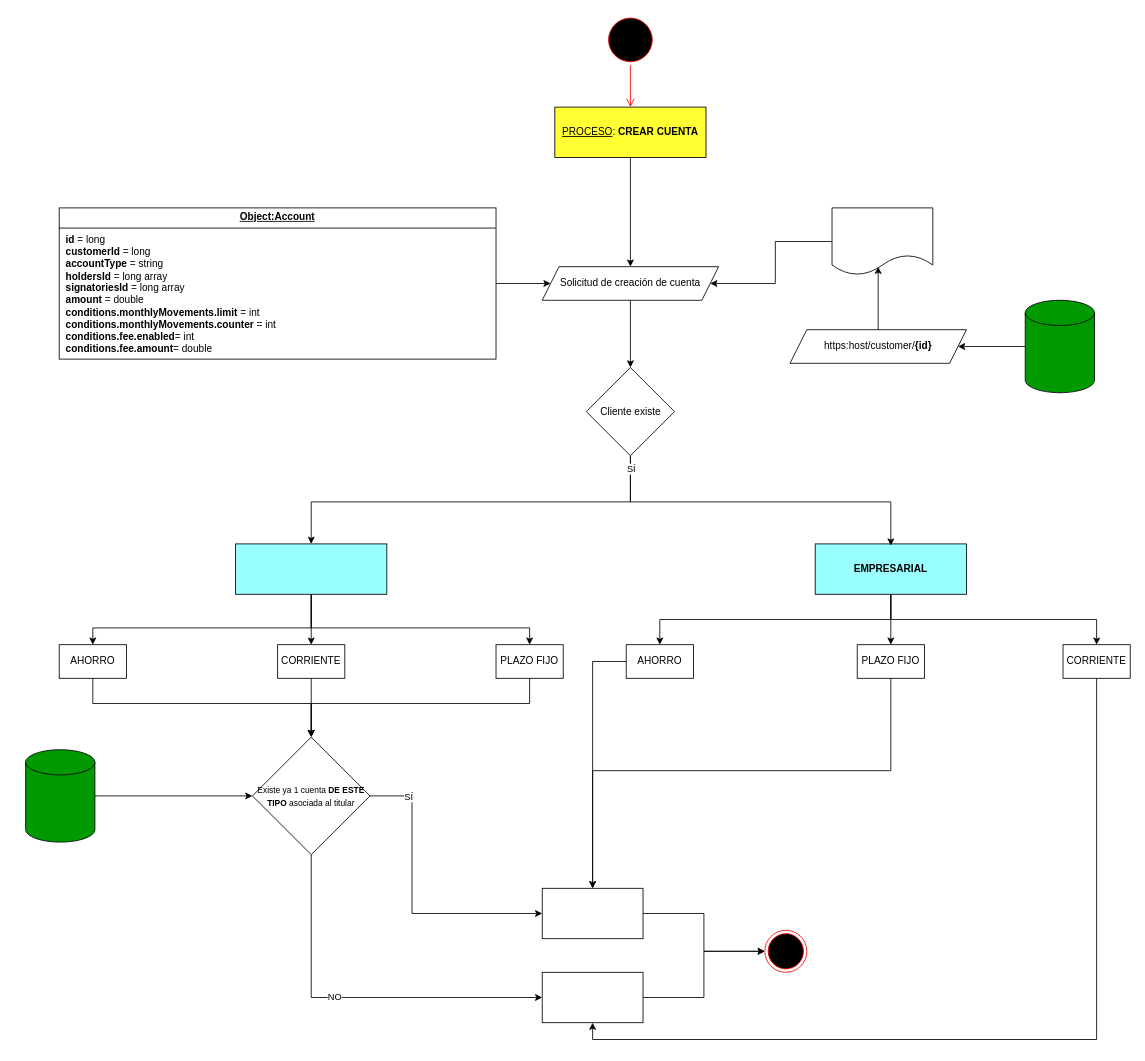
The diagram is 1145 pixels wide and 1061 high, and some of its shapes have lost their labels. The shapes that lost their labels are listed below. From the top down, each one's centre as x and y in pixels, then its label:
point (882, 241): Consume servicio: ms-consumer
point (1059, 346): CUSTOMER
point (311, 568): PERSONAL
point (60, 795): BANK_ACCOUNTS
point (592, 913): Respuesta de creación de cuenta: Denegado
point (592, 997): Respuesta de creación de cuenta: Exitoso
